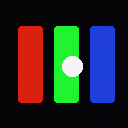2 circle: (62, 56, 82, 76)
